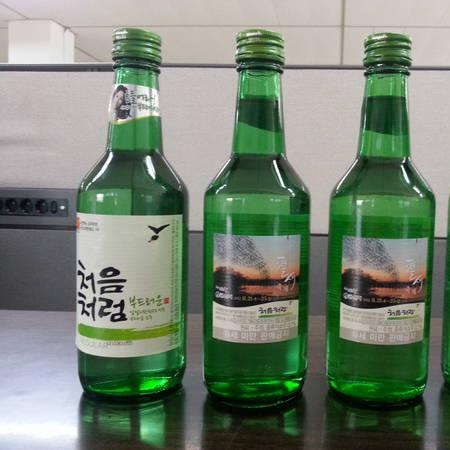soju: (67, 21, 437, 404)
